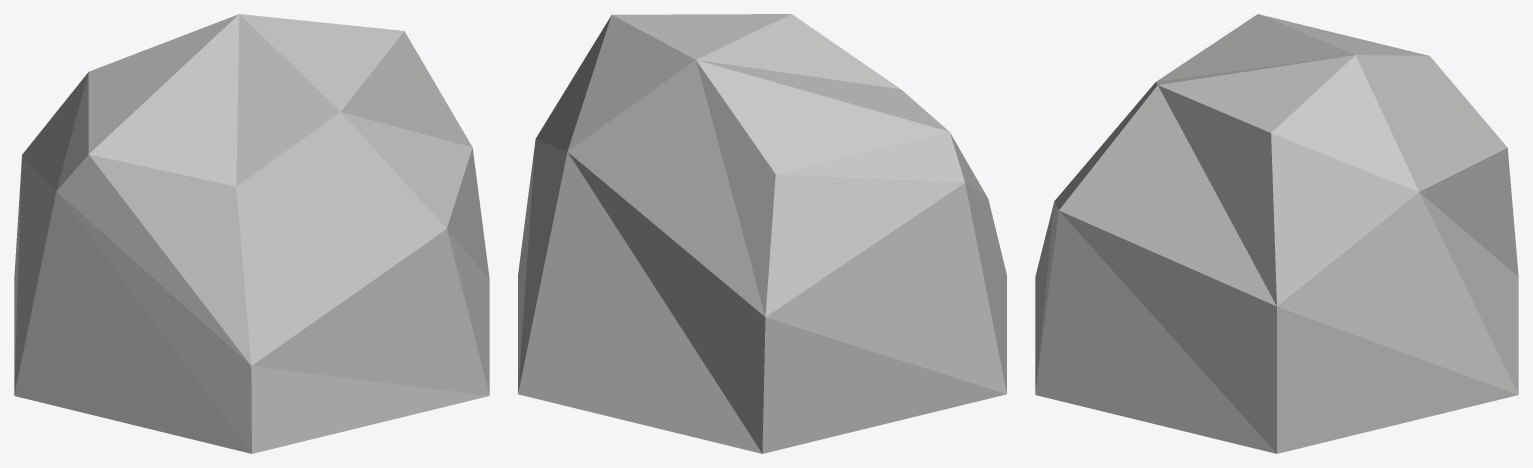
File: Rock_Light_1.fbx
The picture shows the model from 3 angles, left to right: view 1: azimuth 30°, elevation 25°; view 2: azimuth 150°, elevation 25°; view 3: azimuth 270°, elevation 25°; orthographic projection. The views are drawn at different scales.
Visible parts, largest first — view 1: Rock_Light_1; view 2: Rock_Light_1; view 3: Rock_Light_1.
Boxes of the visible parts, <box> form: Rock_Light_1: <box>14,14,489,453</box>; Rock_Light_1: <box>518,14,1006,453</box>; Rock_Light_1: <box>1035,14,1518,453</box>.
Size of the model in its own units: 2 by 1.16 by 1.73.
